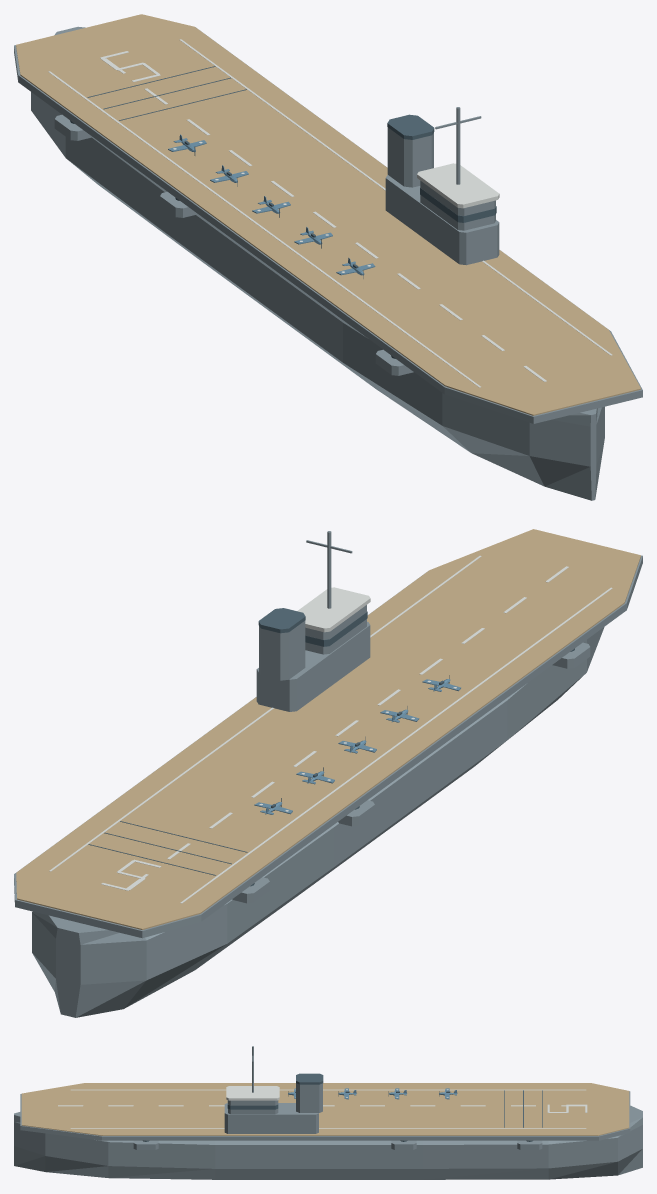
The model's file is yorktown.glb.
3 renders of one model, top to bottom at view 1: azimuth 30°, elevation 25°; view 2: azimuth 150°, elevation 25°; view 3: azimuth 270°, elevation 25°, orthographic. The views are drawn at different scales.
Visible parts, largest first — view 1: yorktown; view 2: yorktown; view 3: yorktown.
Boxes of the visible parts, box(x1,y1,x2,y2) form: yorktown: box(14, 14, 642, 500); yorktown: box(14, 529, 642, 1017); yorktown: box(14, 1046, 642, 1179).
Size of the model in its own units: 21.8 by 24.17 by 100.
